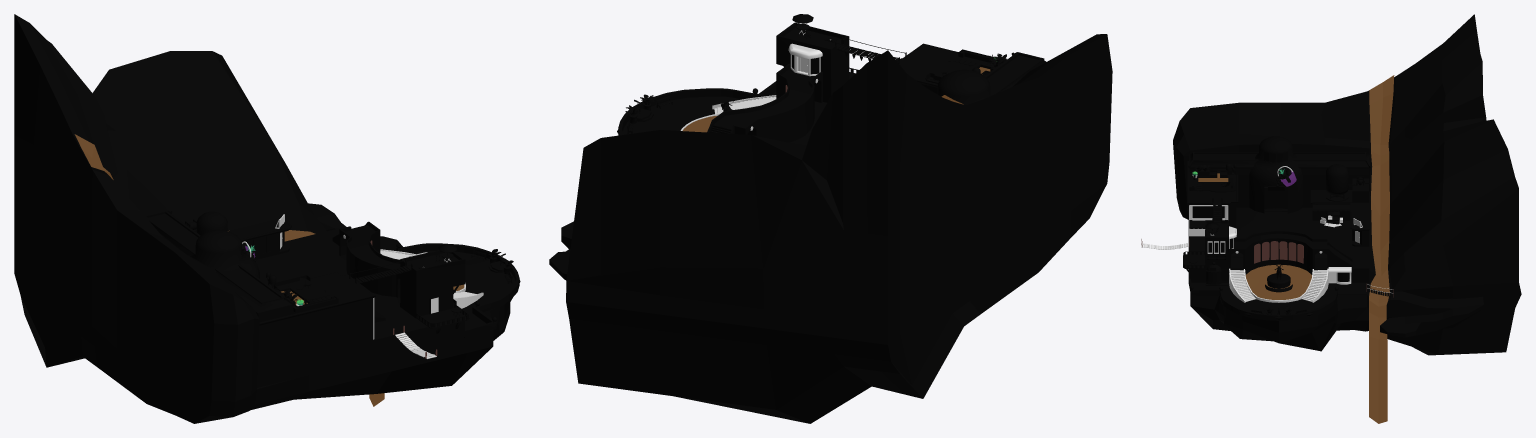
The model's file is ExportedC4DFBXFile.fbx.
3 views of the same model, side by side, from view 1: azimuth 30°, elevation 25°; view 2: azimuth 150°, elevation 25°; view 3: azimuth 270°, elevation 25° (orthographic). The views are drawn at different scales.
Visible parts, largest first — view 1: Cube, Base_1, Cube_29_2, Cylinder_6, Cube_11_7, Cube_23_3, Cylinder_2_2, Cube_16_6, Cube_21_4; view 2: Cube, Base_1, Cylinder_6, Cube_29_2, Cube_23_3; view 3: Cube, Base_1, Cube_11_7, Cube_29_2, Cylinder_6, Disc_6, Cube_23_3, Cylinder_2_2, Cylinder_4_3, Cube_15_7, Cube_23_4.
Part boxes in pixels (x1,y1,x2,y2): Cube: [14, 14, 512, 423]; Base_1: [193, 218, 519, 387]; Cube_29_2: [145, 210, 294, 322]; Cylinder_6: [190, 230, 259, 278]; Cube_11_7: [74, 134, 384, 406]; Cube_23_3: [380, 249, 483, 308]; Cylinder_2_2: [196, 211, 227, 235]; Cube_16_6: [416, 308, 469, 333]; Cube_21_4: [259, 271, 375, 325]; Cube: [549, 34, 1112, 423]; Base_1: [618, 22, 958, 145]; Cylinder_6: [937, 69, 990, 105]; Cube_29_2: [984, 52, 1046, 96]; Cube_23_3: [680, 95, 776, 130]; Cube: [1173, 14, 1521, 355]; Base_1: [1188, 161, 1369, 320]; Cube_11_7: [1369, 75, 1394, 423]; Cube_29_2: [1189, 152, 1370, 174]; Cylinder_6: [1249, 136, 1302, 213]; Disc_6: [1245, 264, 1311, 299]; Cube_23_3: [1229, 268, 1328, 302]; Cylinder_2_2: [1326, 164, 1348, 194]; Cylinder_4_3: [1265, 273, 1292, 292]; Cube_15_7: [1189, 205, 1228, 236]; Cube_23_4: [1328, 242, 1352, 268].
Bounding box in the file's own units: 11649 × 12822 × 14482.
